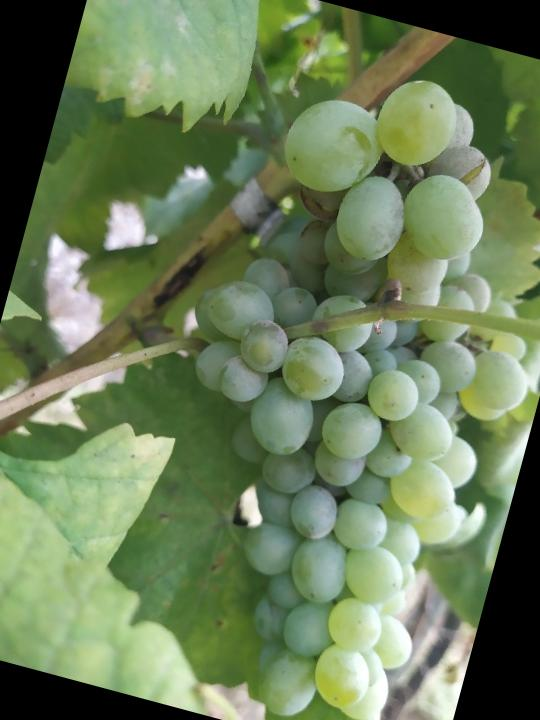grape: (100, 35, 540, 720)
